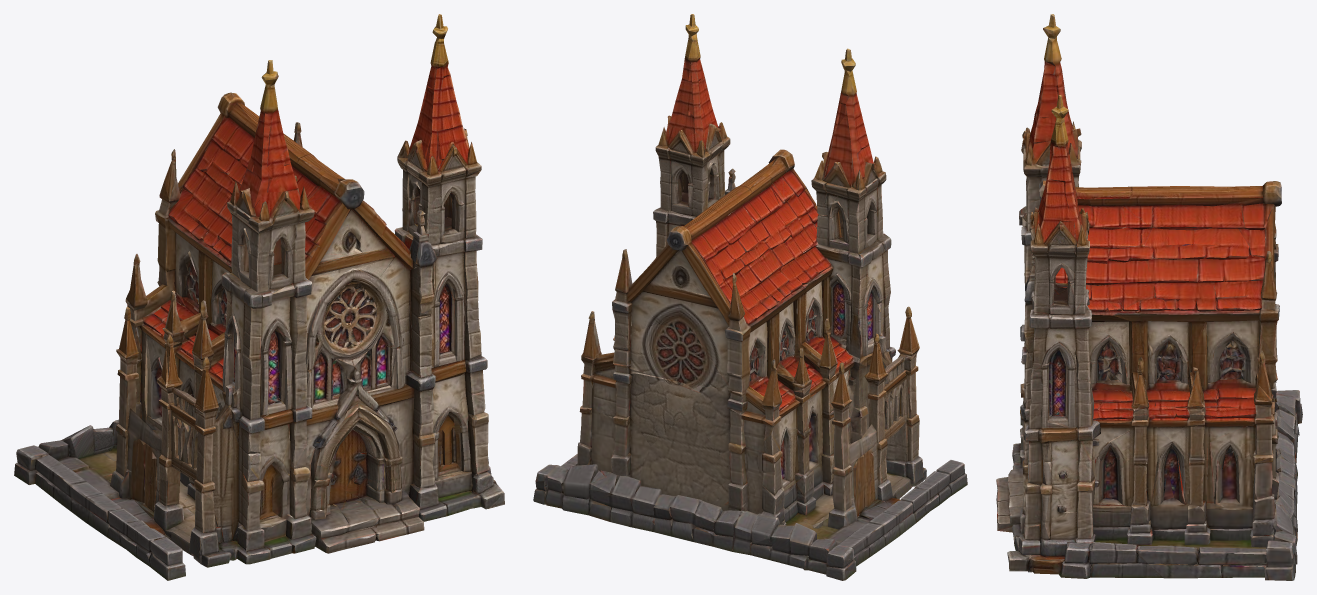
Rendered from chapel3_old.glb.
The picture shows the model from 3 angles, left to right: view 1: azimuth 30°, elevation 25°; view 2: azimuth 150°, elevation 25°; view 3: azimuth 270°, elevation 25°; orthographic projection. The views are drawn at different scales.
Parts seen in each view (by area): view 1: Mesh_0; view 2: Mesh_0; view 3: Mesh_0.
Part boxes in pixels (x1,y1,x2,y2): Mesh_0: (14,14,504,580); Mesh_0: (533,14,967,580); Mesh_0: (996,14,1302,580).
Size of the model in its own units: 1.49 by 1.9 by 1.15.
1 material, 1 textured.
